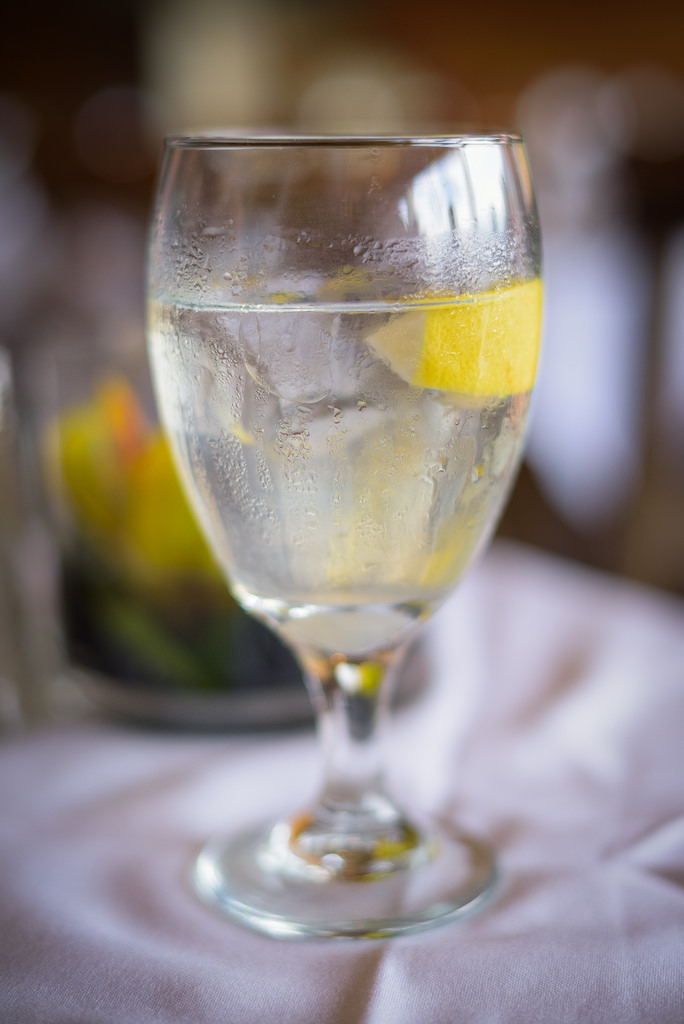glass of water: (151, 117, 566, 954)
